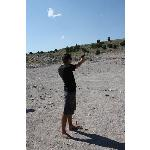Pistol: (79, 53, 84, 60)
